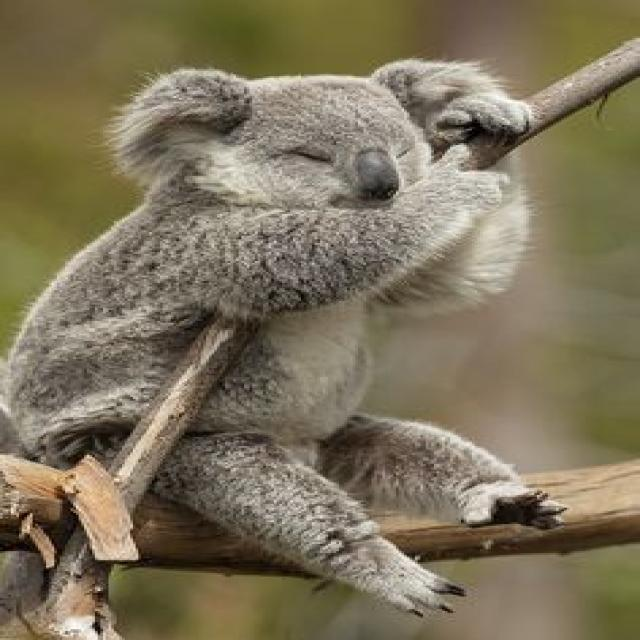Herbivorous: (0, 60, 567, 616)
